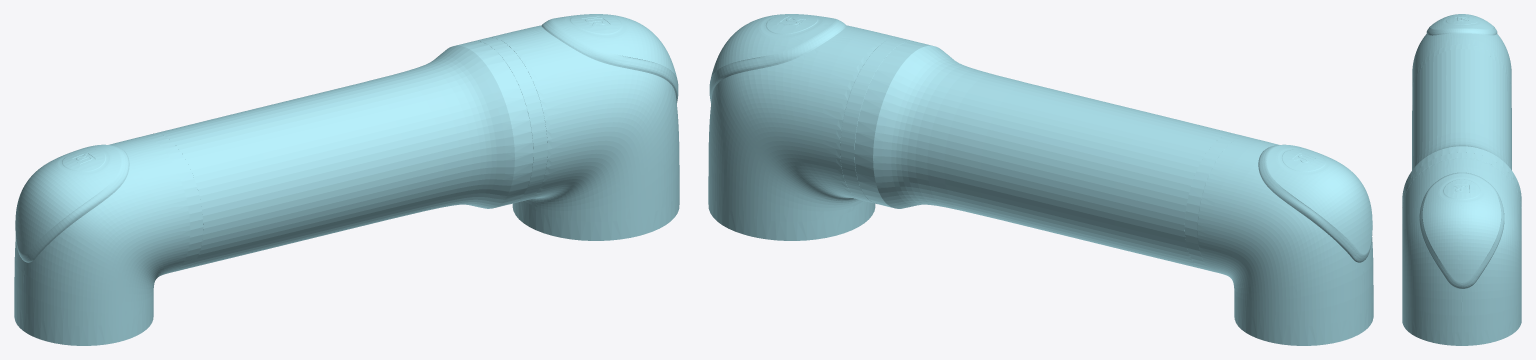
The picture shows the model from 3 angles, left to right: view 1: azimuth 30°, elevation 25°; view 2: azimuth 150°, elevation 25°; view 3: azimuth 270°, elevation 25°; orthographic projection. The views are drawn at different scales.
Parts seen in each view (by area): view 1: UR30Link2; view 2: UR30Link2; view 3: UR30Link2.
Part boxes in pixels (box(x1,y1,x2,y2)): UR30Link2: box(14, 14, 679, 345); UR30Link2: box(708, 14, 1373, 345); UR30Link2: box(1402, 14, 1521, 345).
Size of the model in its own units: 0.8076 by 0.18 by 0.223.
